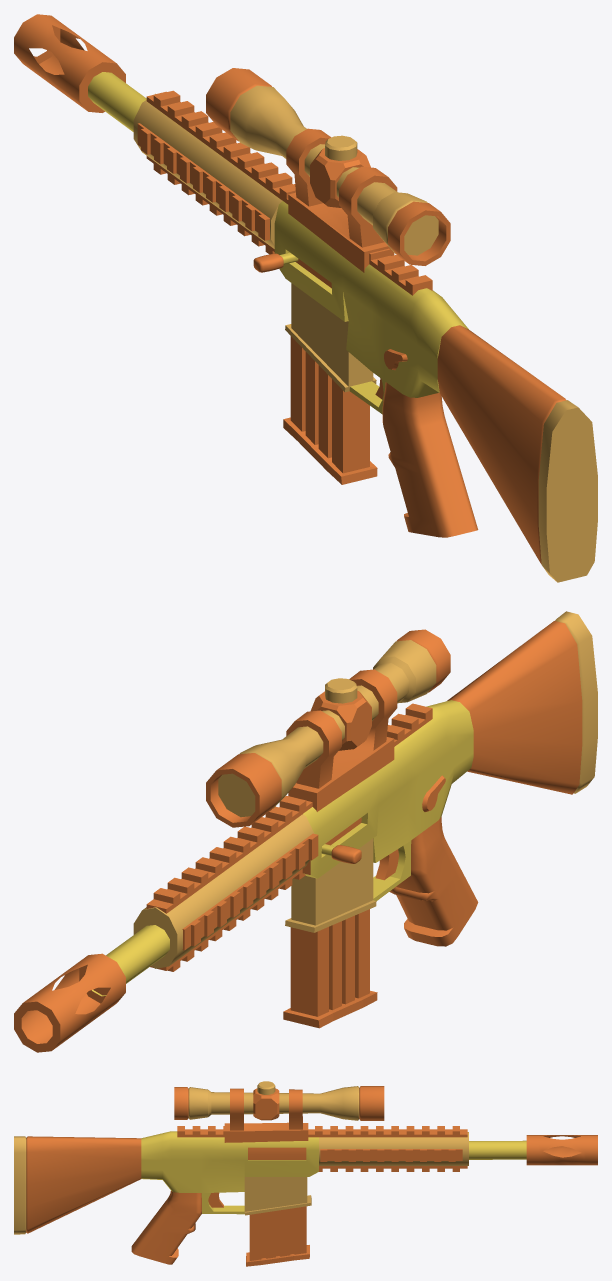
The model's file is SM_Toy_Marksman_Rifle.fbx.
The picture shows the model from 3 angles, top to bottom: view 1: azimuth 30°, elevation 25°; view 2: azimuth 150°, elevation 25°; view 3: azimuth 270°, elevation 25°; orthographic projection. The views are drawn at different scales.
Visible parts, largest first — view 1: SM_Toy_Marksman_Rifle; view 2: SM_Toy_Marksman_Rifle; view 3: SM_Toy_Marksman_Rifle.
Part boxes in pixels (bbox=[...]): SM_Toy_Marksman_Rifle: bbox=[14, 14, 597, 582]; SM_Toy_Marksman_Rifle: bbox=[14, 611, 597, 1052]; SM_Toy_Marksman_Rifle: bbox=[14, 1081, 597, 1266].
Size of the model in its own units: 70.77 by 284 by 846.
